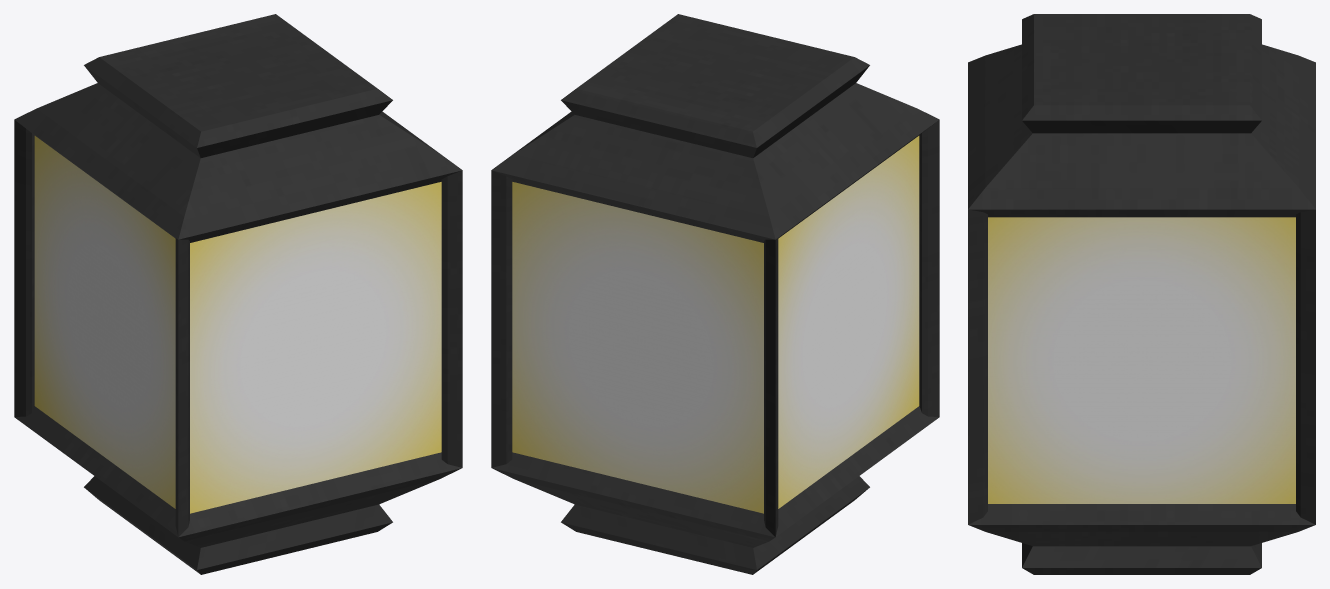
The model's file is SingleLight.fbx.
3 views of the same model, side by side, from view 1: azimuth 30°, elevation 25°; view 2: azimuth 150°, elevation 25°; view 3: azimuth 270°, elevation 25° (orthographic). The views are drawn at different scales.
Parts seen in each view (by area): view 1: Cube; view 2: Cube; view 3: Cube.
Boxes of the visible parts, x1=… form: Cube: x1=14, y1=14, x2=462, y2=574; Cube: x1=491, y1=14, x2=939, y2=574; Cube: x1=968, y1=14, x2=1315, y2=574.
Bounding box in the file's own units: 220 × 328 × 220.
